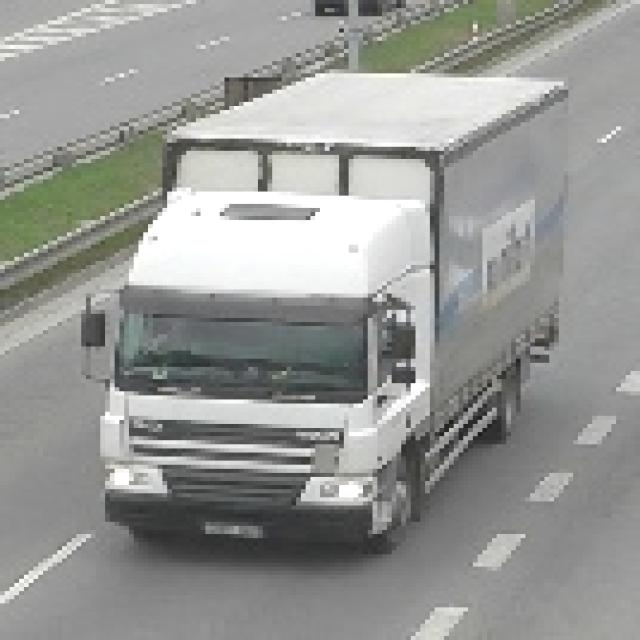truck: (73, 70, 569, 543)
